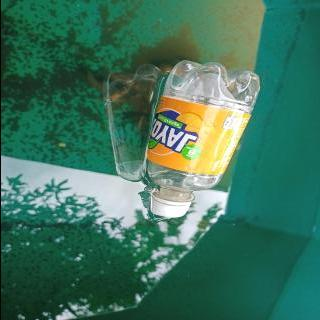bottle: (136, 58, 264, 218)
